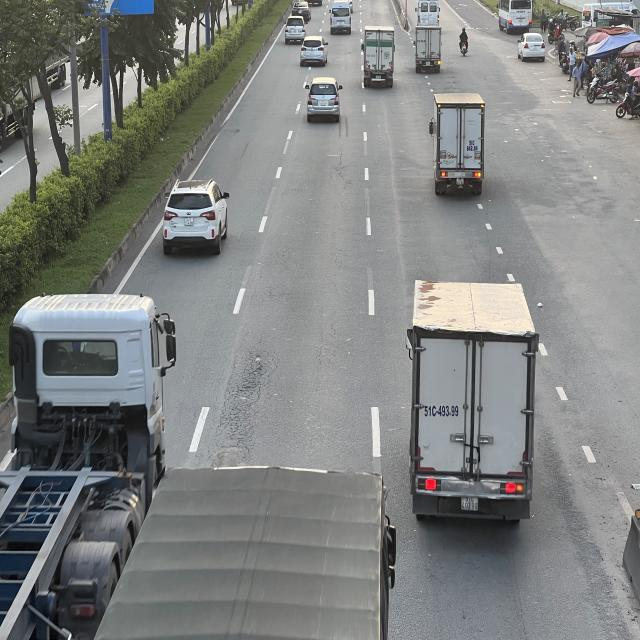car: (163, 181, 230, 256), (304, 77, 344, 123), (301, 34, 332, 69), (515, 31, 547, 64), (284, 14, 306, 40)
coach: (498, 0, 534, 34)
container: (1, 288, 175, 640)
truck: (407, 277, 539, 527), (430, 93, 486, 197), (360, 25, 394, 90), (414, 23, 442, 71)
van: (326, 2, 354, 33), (415, 0, 440, 26)
